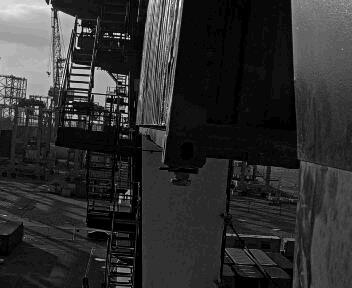twist_lock_1: (131, 137, 151, 158)
